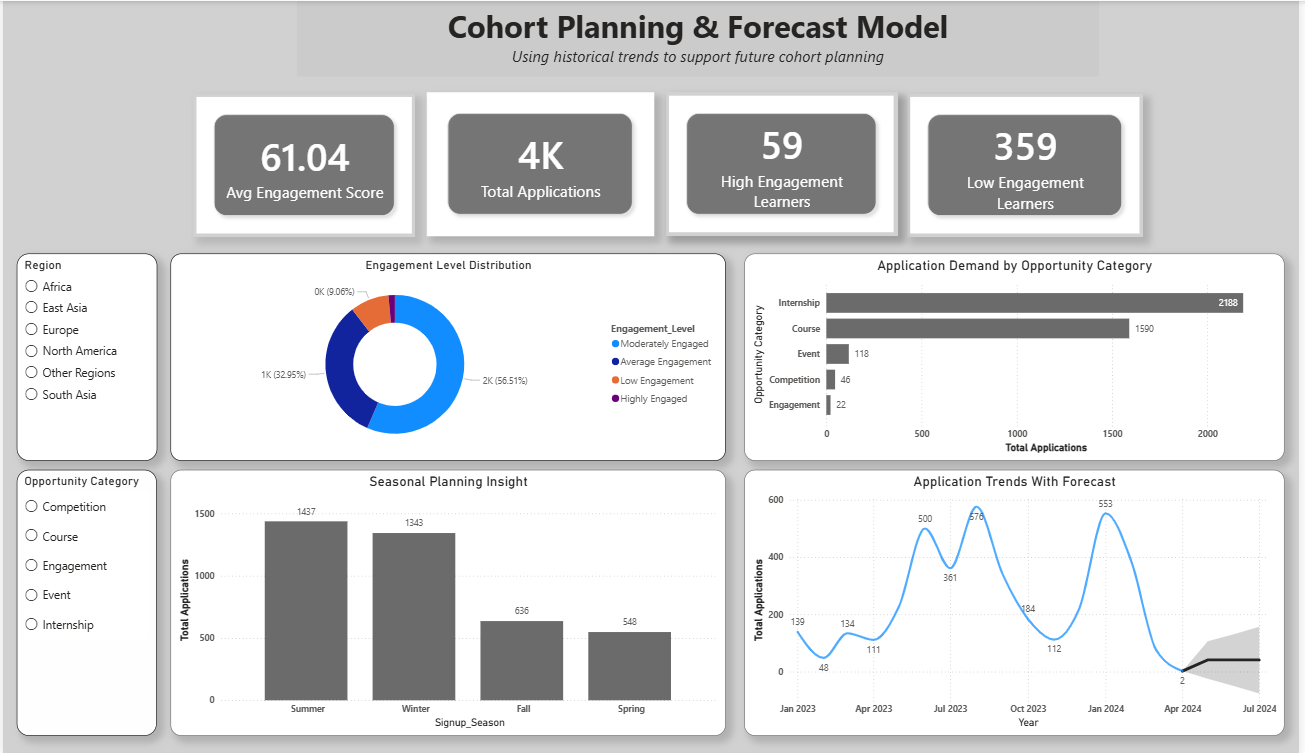

What the dashboard file says about the page in this screenshot:
{"tool":"powerbi","page":{"name":"Cohort Planning & Forecast Model","canvas":[1800,1050],"ordinal":3},"visuals":[{"type":"textbox","box":[408.7,0,1114.6,104.5],"z":0},{"type":"cardVisual","fields":{"Data":["Dataset.Total Applications"]},"box":[508.5,125.4,315.8,199.7],"z":1000},{"type":"cardVisual","fields":{"Data":["Avg(Dataset.Engagement_Score)"]},"box":[60.4,125.4,308.8,199.7],"z":2000},{"type":"cardVisual","fields":{"Data":["Dataset.High Engagement Learners"]},"box":[984.5,125.4,322.8,199.7],"z":3000},{"type":"cardVisual","fields":{"Data":["Dataset.Low Engagement Learners"]},"box":[1451.3,125.4,327.4,199.7],"z":4000},{"type":"donutChart","title":"Engagement Level Distribution","fields":{"Y":["Dataset.Total Applications"],"Category":["Dataset.Engagement_Level"]},"box":[250.8,350.6,752.3,287.9],"z":5000},{"type":"columnChart","title":"Seasonal Planning Insight","fields":{"Category":["Dataset.Signup_Season"],"Y":["Dataset.Total Applications"]},"box":[250.8,682.7,752.3,339],"z":6000},{"type":"barChart","title":"Application Demand by Opportunity Category","fields":{"Category":["Dataset.Opportunity Category"],"Y":["Dataset.Total Applications"]},"box":[1028.7,350.6,750,287.9],"z":7000},{"type":"lineChart","title":"Application Trends With Forecast","fields":{"Y":["Dataset.Total Applications"],"Category":["Dataset.Learner SignUp DateTime.Variation.Date Hierarchy.Year","Dataset.Learner SignUp DateTime.Variation.Date Hierarchy.Quarter","Dataset.Learner SignUp DateTime.Variation.Date Hierarchy.Month"]},"box":[1028.7,682.7,750,339],"z":8000},{"type":"listSlicer","fields":{"Values":["Dataset.Region"]},"box":[18.6,350.6,195,287.9],"z":9000},{"type":"listSlicer","fields":{"Values":["Dataset.Opportunity Category"]},"box":[18.6,682.7,195,339],"z":11000}]}

Visuals, with their boxes in screenshot pixels (x1, y1, x2, y2), scaled from the page's 1800x1050 canvas onto the 1305x753 screenshot:
textbox: x1=296 y1=0 x2=1104 y2=75
cardVisual - Dataset.Total Applications: x1=369 y1=90 x2=598 y2=233
cardVisual - Avg(Dataset.Engagement_Score): x1=44 y1=90 x2=268 y2=233
cardVisual - Dataset.High Engagement Learners: x1=714 y1=90 x2=948 y2=233
cardVisual - Dataset.Low Engagement Learners: x1=1052 y1=90 x2=1290 y2=233
"Engagement Level Distribution" donutChart: x1=182 y1=251 x2=727 y2=458
"Seasonal Planning Insight" columnChart: x1=182 y1=490 x2=727 y2=733
"Application Demand by Opportunity Category" barChart: x1=746 y1=251 x2=1290 y2=458
"Application Trends With Forecast" lineChart: x1=746 y1=490 x2=1290 y2=733
listSlicer - Dataset.Region: x1=13 y1=251 x2=155 y2=458
listSlicer - Dataset.Opportunity Category: x1=13 y1=490 x2=155 y2=733
